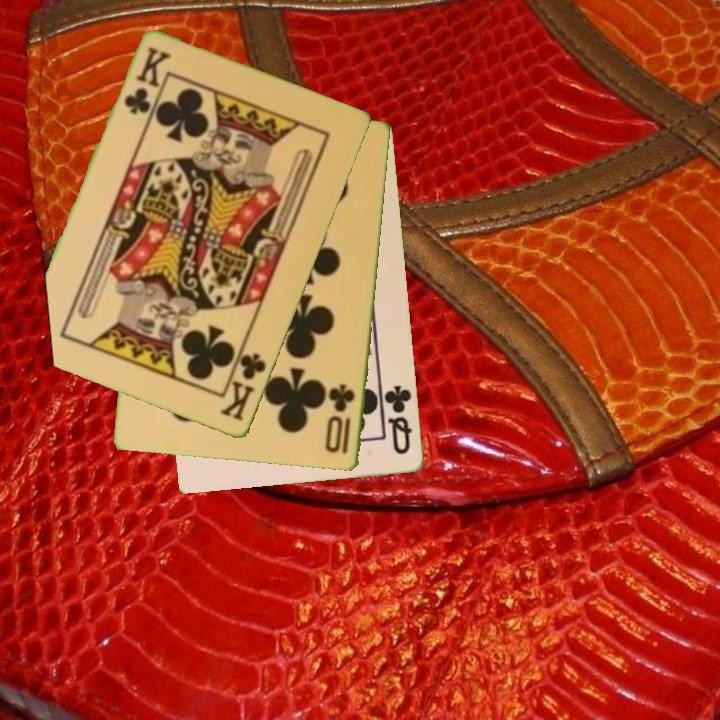10c: (323, 381, 359, 458)
Kc: (217, 341, 270, 425), (121, 43, 172, 118)
Qc: (379, 381, 415, 458)
